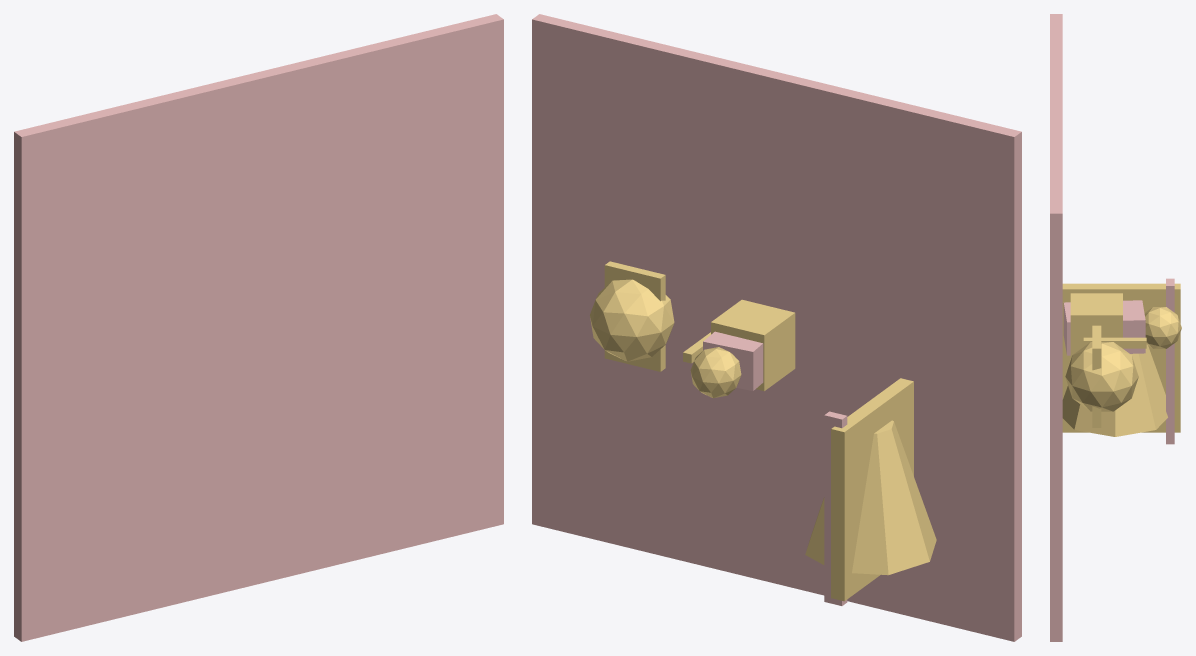
The model's file is timekeepers-paradox-kit.glb.
The picture shows the model from 3 angles, left to right: view 1: azimuth 30°, elevation 25°; view 2: azimuth 150°, elevation 25°; view 3: azimuth 270°, elevation 25°; orthographic projection. The views are drawn at different scales.
Visible parts, largest first — view 1: ENVIRONMENT_GROUND; view 2: ENVIRONMENT_GROUND, ENVIRONMENT_LANDMARK, PROFILE_ENVIRONMENT_DETAIL, OBSTACLE, PROFILE_PLAYER_DETAIL, PLAYER_HEAD, PROFILE_OBSTACLE_DETAIL, PLAYER_BODY, PROFILE_ENVIRONMENT_TRIM; view 3: ENVIRONMENT_GROUND, ENVIRONMENT_LANDMARK, OBSTACLE, PROFILE_ENVIRONMENT_DETAIL, PROFILE_PLAYER_DETAIL, PLAYER_BODY, PLAYER_HEAD, PROFILE_ENVIRONMENT_TRIM, PROFILE_OBSTACLE_DETAIL, PLAYER_TOOL.
Part boxes in pixels (x1,y1,x2,y2): ENVIRONMENT_GROUND: (14, 14, 503, 641); ENVIRONMENT_GROUND: (532, 14, 1021, 641); ENVIRONMENT_LANDMARK: (805, 420, 936, 575); PROFILE_ENVIRONMENT_DETAIL: (831, 378, 913, 601); OBSTACLE: (590, 279, 674, 361); PROFILE_PLAYER_DETAIL: (711, 299, 795, 391); PLAYER_HEAD: (690, 347, 741, 398); PROFILE_OBSTACLE_DETAIL: (604, 261, 665, 371); PLAYER_BODY: (703, 331, 763, 390); PROFILE_ENVIRONMENT_TRIM: (824, 411, 847, 605); ENVIRONMENT_GROUND: (1050, 14, 1062, 641); ENVIRONMENT_LANDMARK: (1062, 344, 1167, 436); OBSTACLE: (1065, 342, 1138, 411); PROFILE_ENVIRONMENT_DETAIL: (1062, 283, 1180, 432); PROFILE_PLAYER_DETAIL: (1070, 293, 1122, 359); PLAYER_BODY: (1063, 300, 1145, 355); PLAYER_HEAD: (1144, 307, 1181, 348); PROFILE_ENVIRONMENT_TRIM: (1166, 278, 1174, 444); PROFILE_OBSTACLE_DETAIL: (1092, 325, 1101, 427); PLAYER_TOOL: (1083, 337, 1146, 348).
Size of what is drawn, in the model's own units: 9 by 9 by 2.51.
